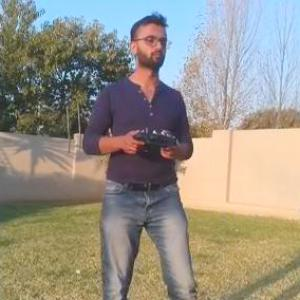follow: (77, 11, 202, 299)
